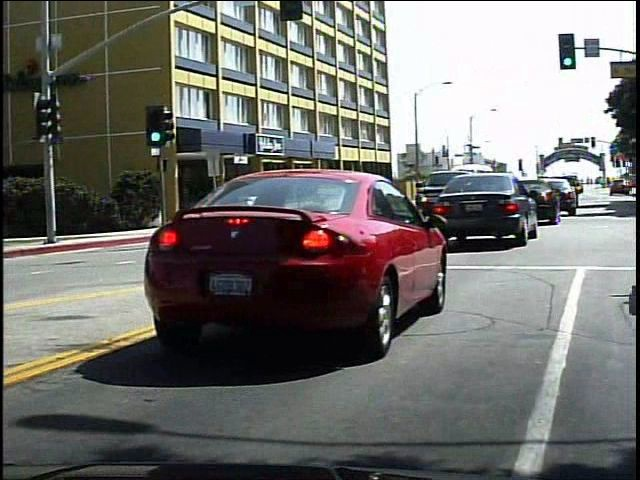person: (277, 183, 296, 221)
